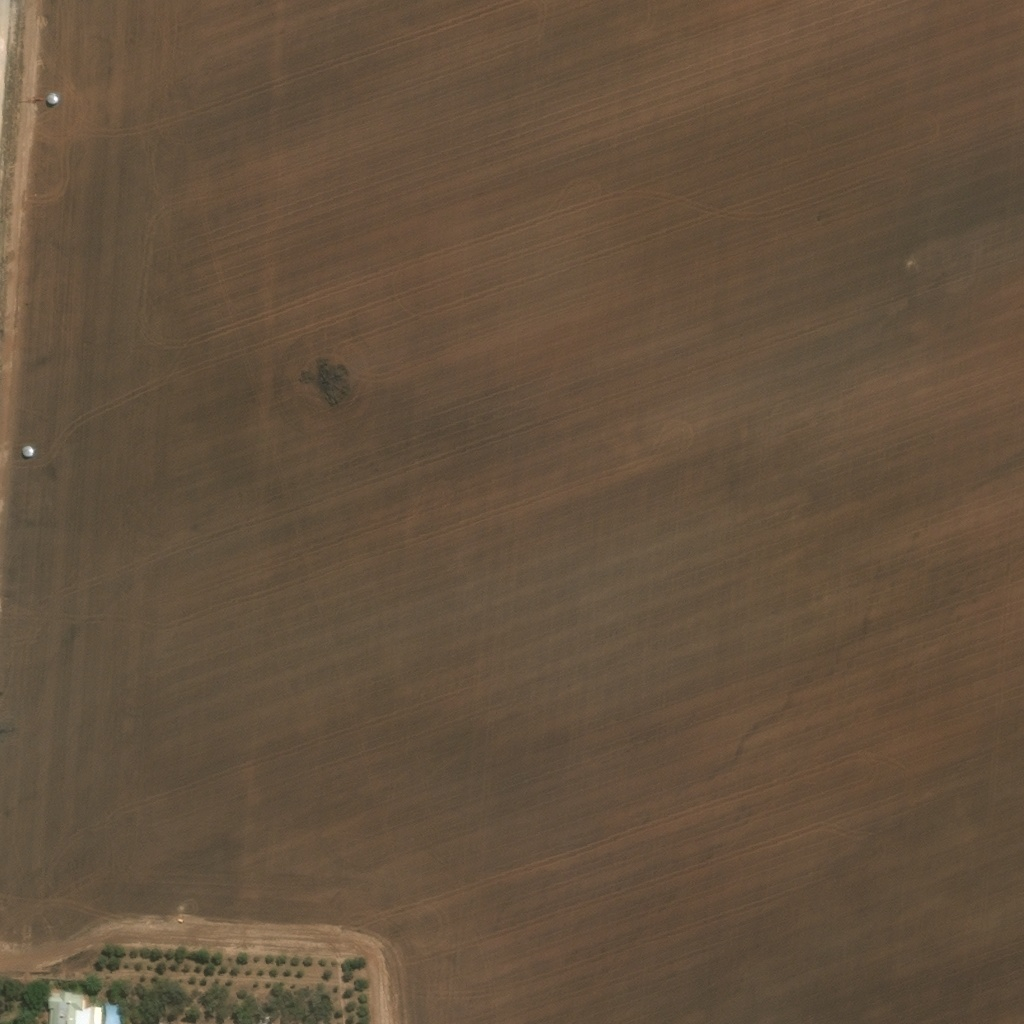0 no-damage: (49, 989, 121, 1023)
